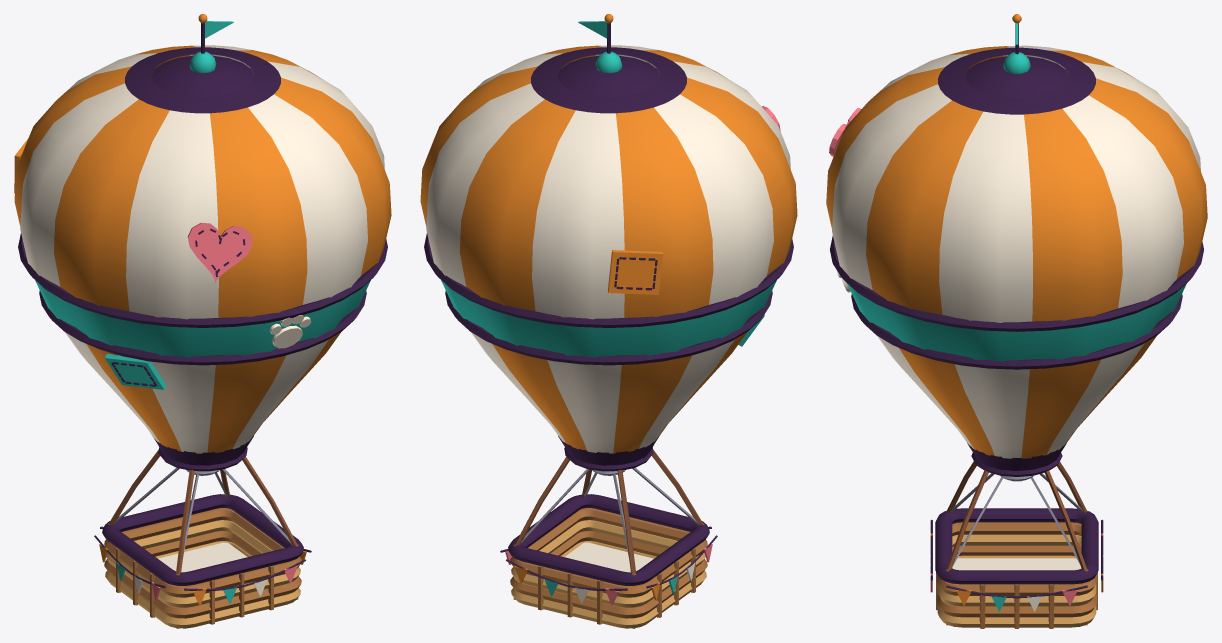
Rendered from hot-air-balloon.glb.
The picture shows the model from 3 angles, left to right: view 1: azimuth 30°, elevation 25°; view 2: azimuth 150°, elevation 25°; view 3: azimuth 270°, elevation 25°; orthographic projection.
Parts seen in each view (by area): view 1: hot_air_balloon; view 2: hot_air_balloon; view 3: hot_air_balloon.
Part boxes in pixels (x1,y1,x2,y2): hot_air_balloon: (14,14,391,628); hot_air_balloon: (420,14,797,628); hot_air_balloon: (826,14,1207,628).
Bounding box in the file's own units: 2.21 × 3.72 × 2.21.
